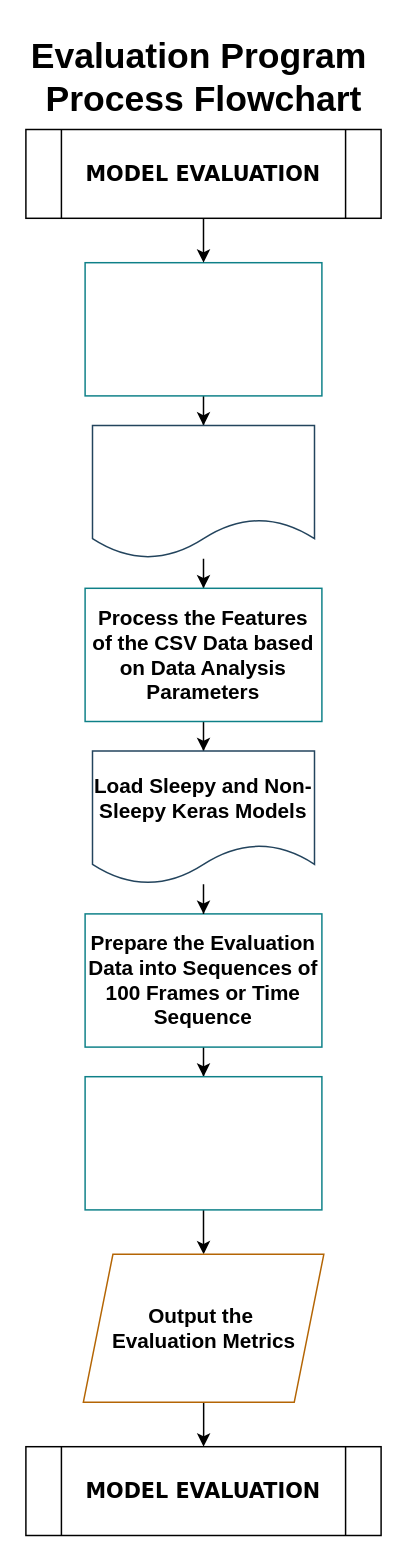
Some shapes in this 407 by 1561 pixel diagram are drawn without their labels. Here are the shapes that lost their labels. From the top down, the box of each, then its label:
(84, 261, 322, 396): Initialize Data Path, Variables, and Functions
(91, 424, 314, 559): Read CSV File and Store the Data into the df Variable
(84, 1075, 322, 1210): Predict Using the Trained Model
